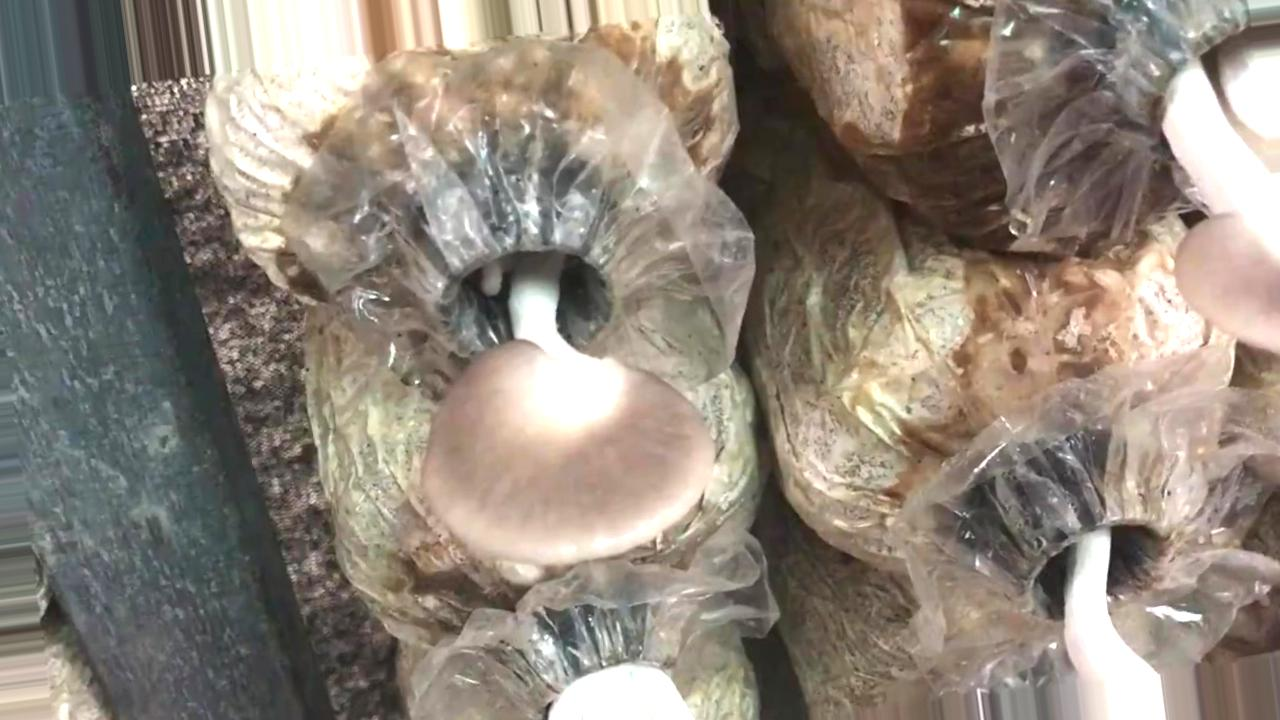nam: (418, 191, 714, 568), (1121, 6, 1277, 360)
